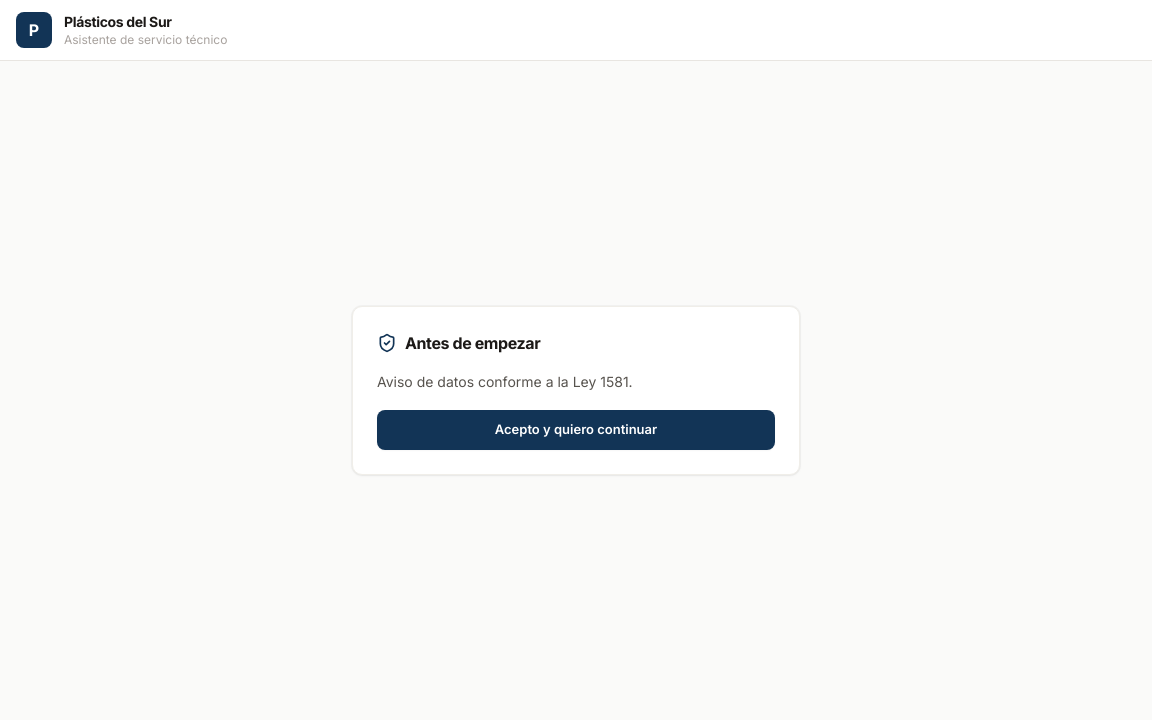
Scenario: PublicAssistantChat › pide aceptar el aviso de datos antes de chatear
This screenshot has width=1152, height=720.
What coordinates should you click on to do the following:
click the button "Acepto y quiero continuar"
I would click on:
 (576, 430)
Its box is 377,410 -> 775,450.
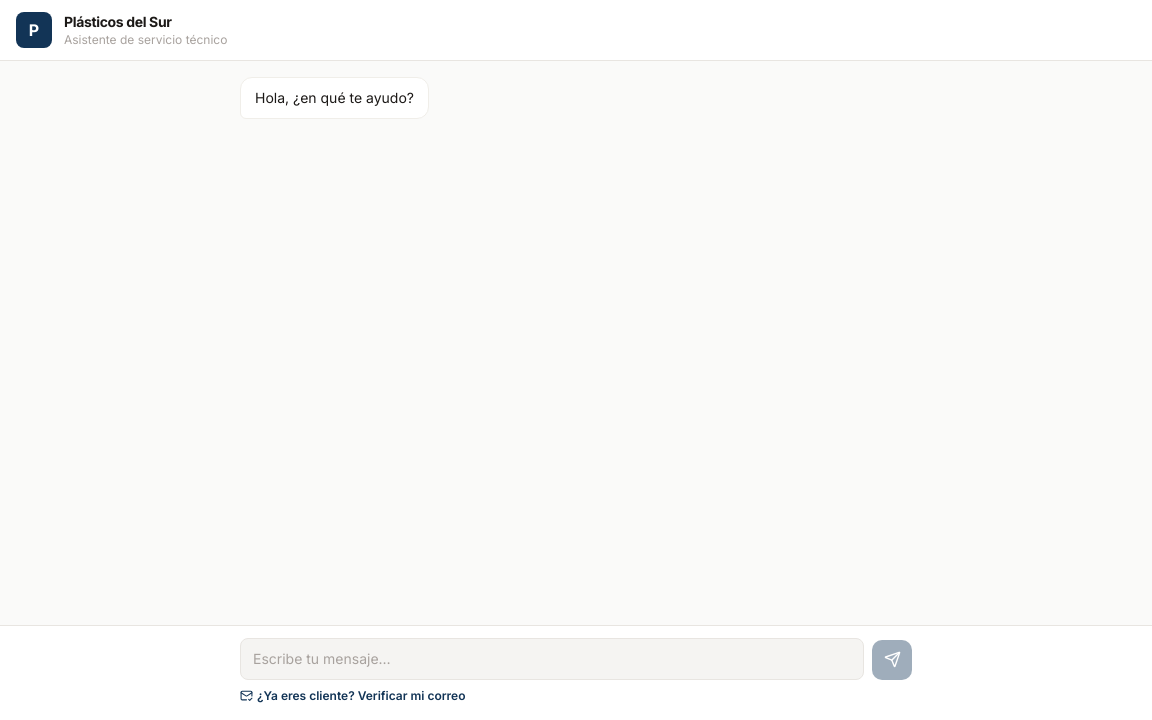
Now the text "Hola, ¿en qué te ayudo?" is shown, box 255,88 -> 414,108
